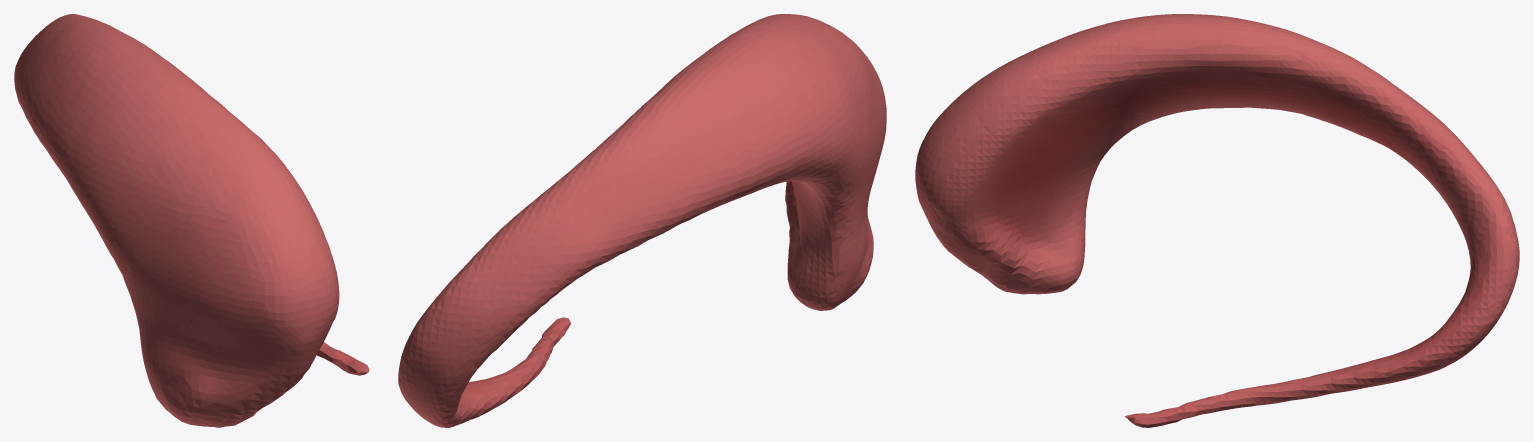
The model's file is Caudate_nucleus2.obj.
3 renders of one model, left to right at view 1: azimuth 30°, elevation 25°; view 2: azimuth 150°, elevation 25°; view 3: azimuth 270°, elevation 25°, orthographic. The views are drawn at different scales.
Parts seen in each view (by area): view 1: obj0; view 2: obj0; view 3: obj0.
Part boxes in pixels (<box>): obj0: <box>14,14,369,427</box>; obj0: <box>398,14,886,427</box>; obj0: <box>915,14,1519,427</box>.
Bounding box in the file's own units: 15.14 × 17.67 × 30.32.
1 material, 1 textured.
